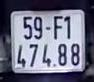1: (63, 14, 73, 40)
4: (16, 43, 27, 70), (42, 41, 51, 69)
5: (20, 15, 35, 40)
7: (28, 42, 41, 69)
8: (57, 41, 69, 68), (71, 41, 82, 68)
9: (33, 16, 45, 40)
F: (52, 14, 65, 41)
